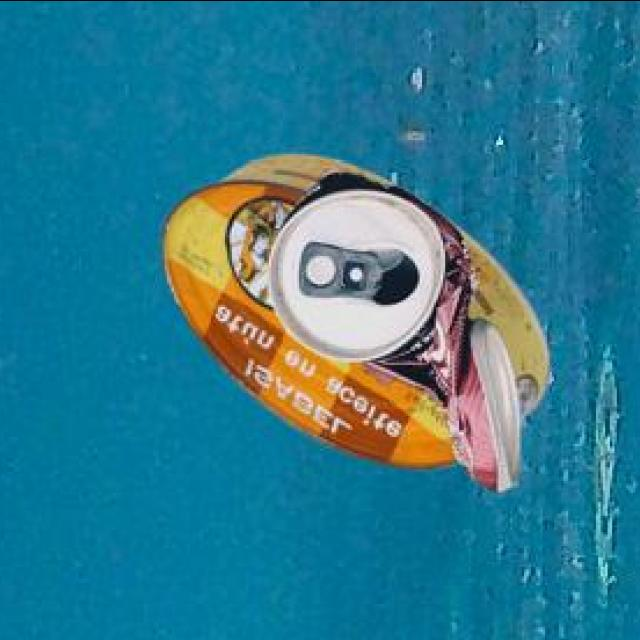logam: (166, 157, 553, 472), (270, 170, 523, 495)
